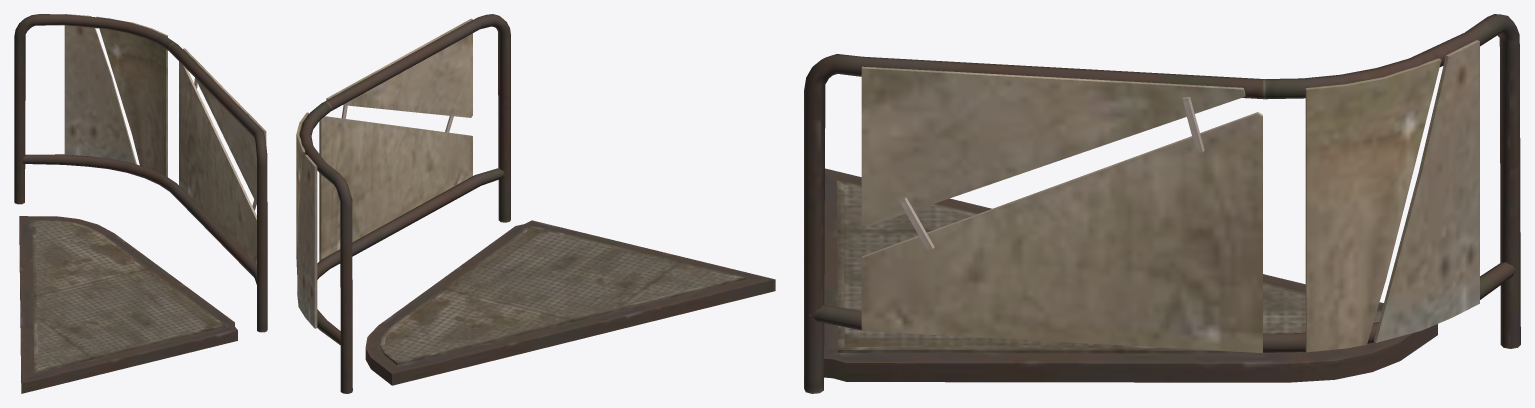
File: stairs.triangle.spiral.landing.metal.glb
3 renders of one model, left to right at view 1: azimuth 30°, elevation 25°; view 2: azimuth 150°, elevation 25°; view 3: azimuth 270°, elevation 25°, orthographic. The views are drawn at different scales.
Visible parts, largest first — view 1: stairs.spiral.landing_LOD0; view 2: stairs.spiral.landing_LOD0; view 3: stairs.spiral.landing_LOD0.
Boxes of the visible parts, left/top/right/bottom form: stairs.spiral.landing_LOD0: left=14, top=14, right=267, bottom=393; stairs.spiral.landing_LOD0: left=296, top=14, right=775, bottom=393; stairs.spiral.landing_LOD0: left=804, top=14, right=1520, bottom=393.
Bounding box in the file's own units: 1.76 × 1.14 × 2.13.
Materials: 1 (1 with a texture image).
